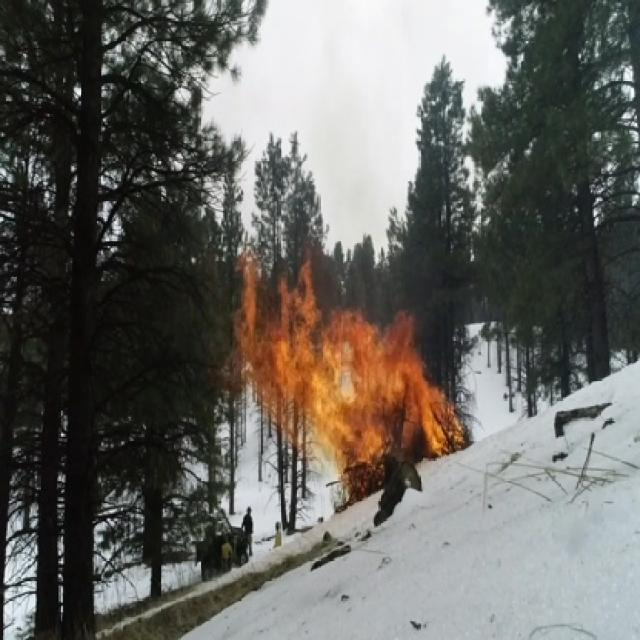Fire: (228, 240, 470, 506)
